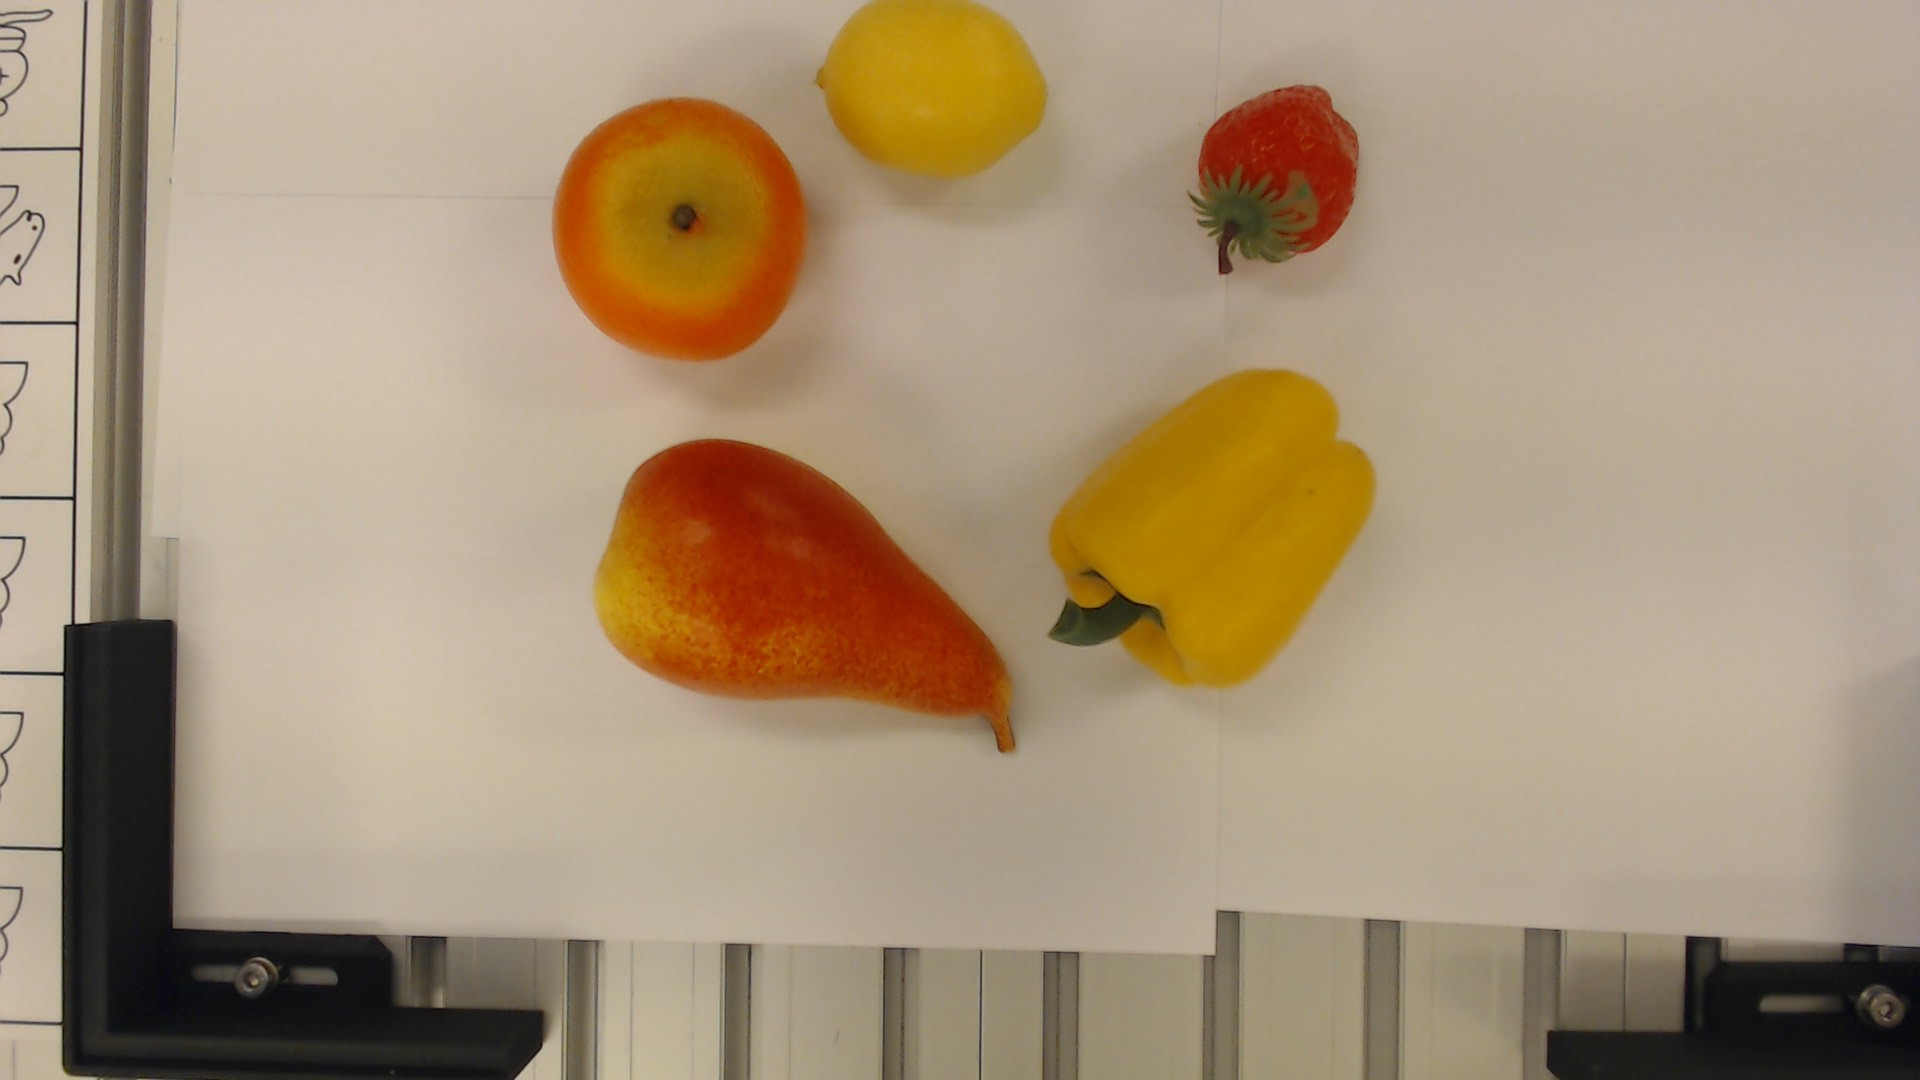Lemon: (810, 4, 1055, 185)
Mandarin: (545, 91, 814, 364)
Pear: (588, 435, 1025, 756)
Yellow Bell Pepper: (1052, 357, 1381, 690)
